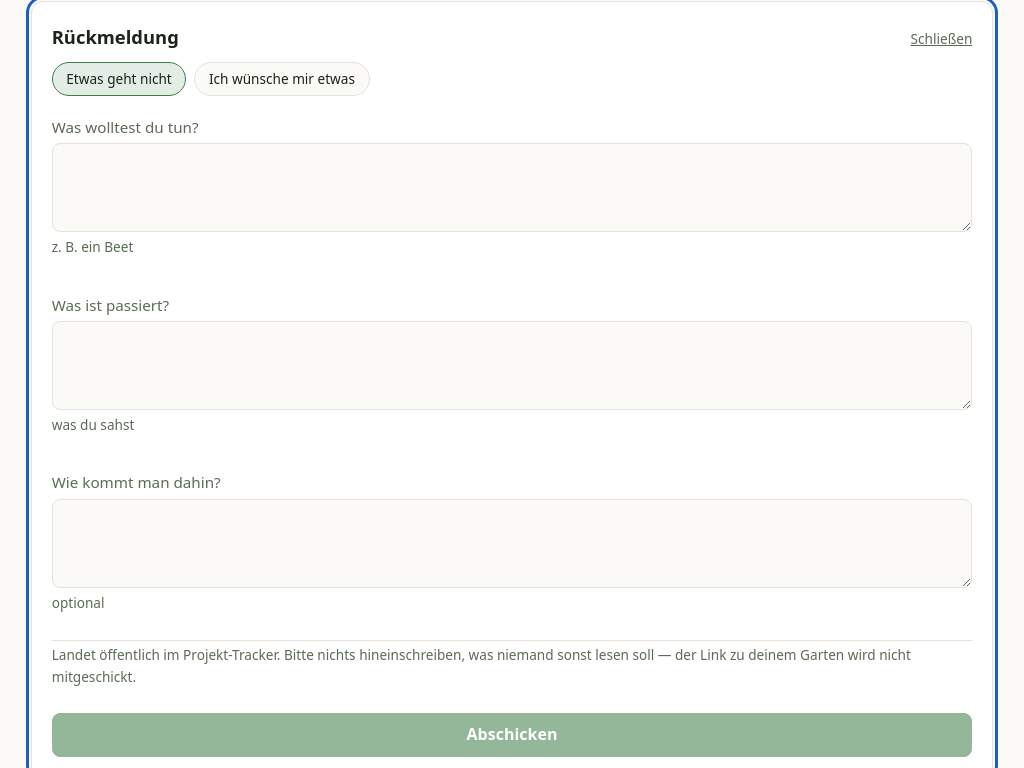
Test: FeedbackBox › thanks only after the server has it
The image size is (1024, 768).
(page scrolled)
Type "a" into the text box labelled "Was wolltest du tun? z. B. ein Beet". click: (512, 188)
box: [52, 143, 972, 232]
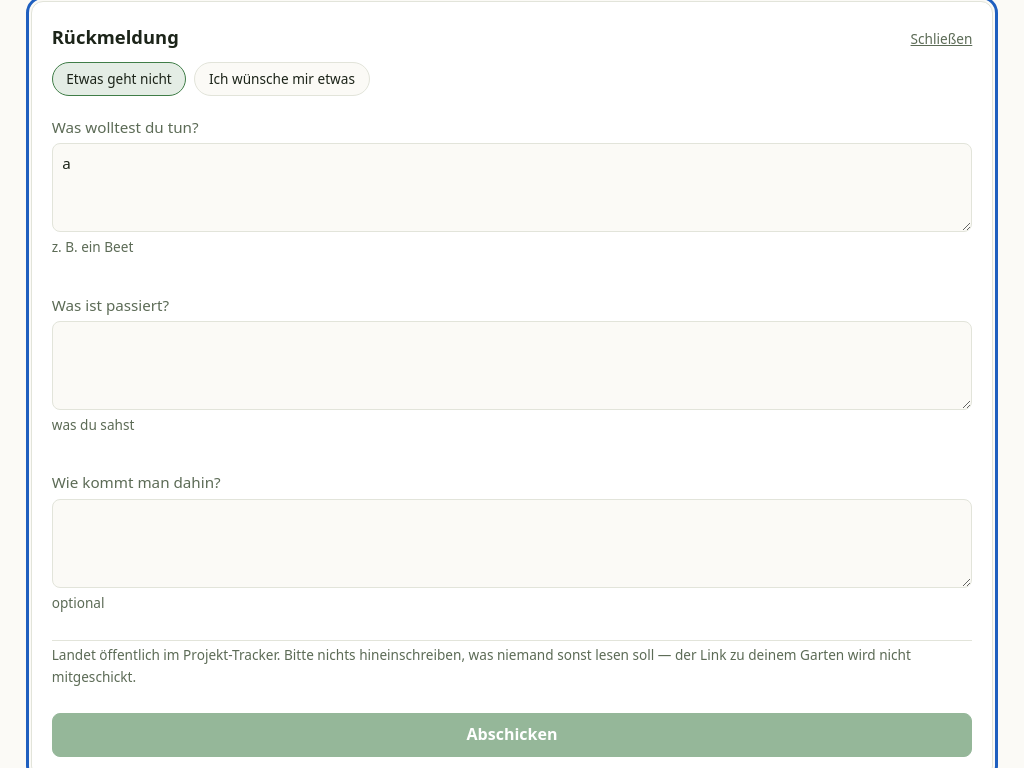
Type "b" into the text box labelled "Was ist passiert? was du sahst". click: (512, 366)
box: [52, 321, 972, 410]
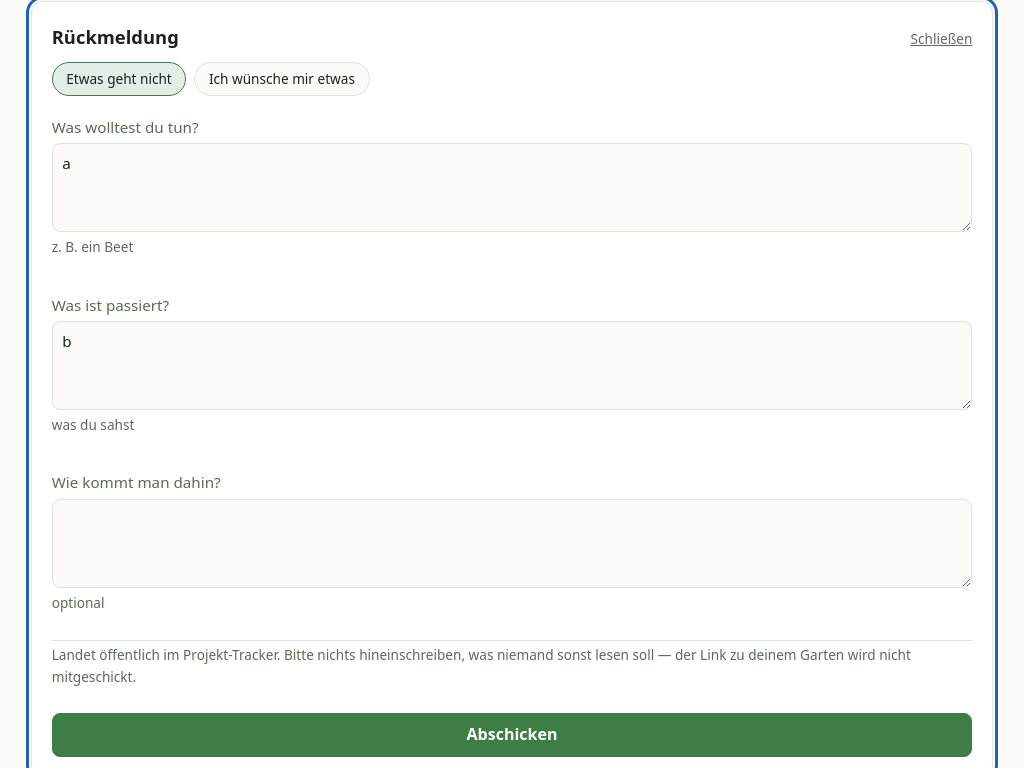
Click the button "Abschicken". click: (512, 735)
box: [52, 713, 972, 757]
(page scrolled)
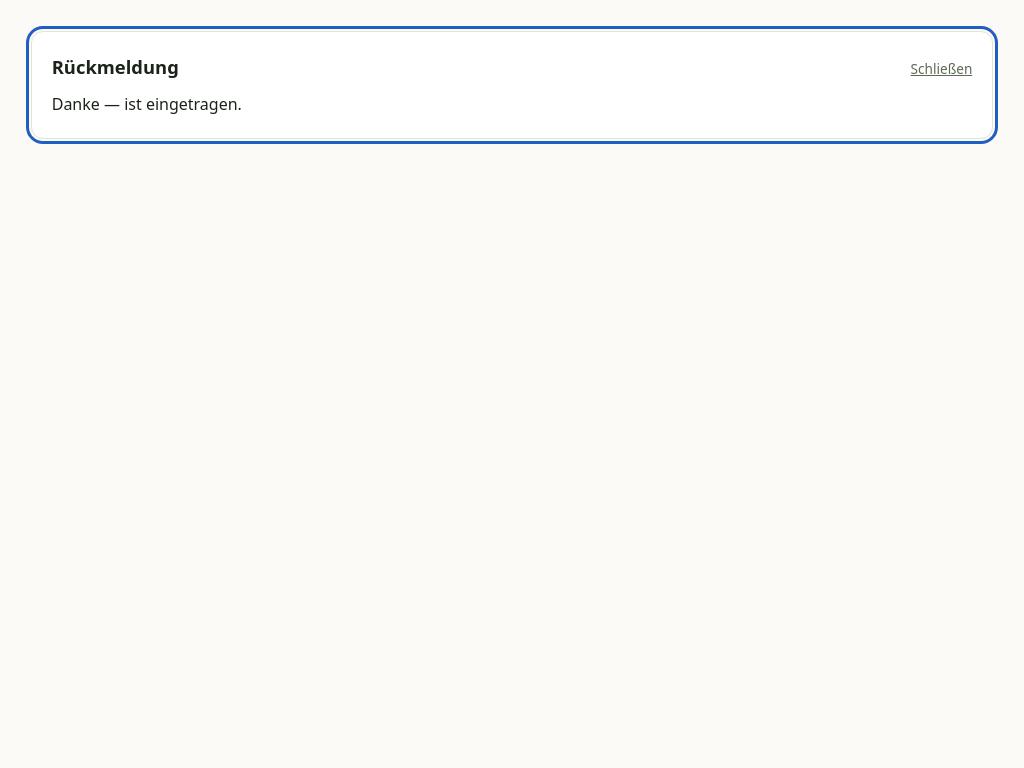
Expected: the text "Danke — ist eingetragen." is shown, [52, 93, 242, 115]
